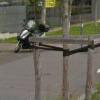Motorcycle: (9, 14, 57, 50)
